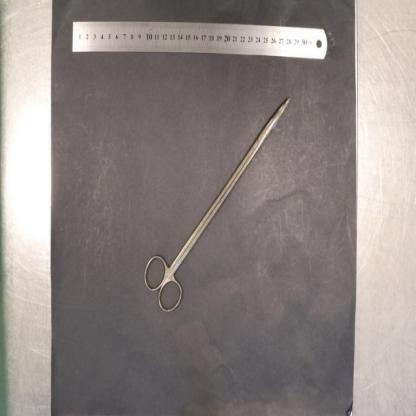9 Metzenbaum Scissors: (143, 97, 291, 316)
